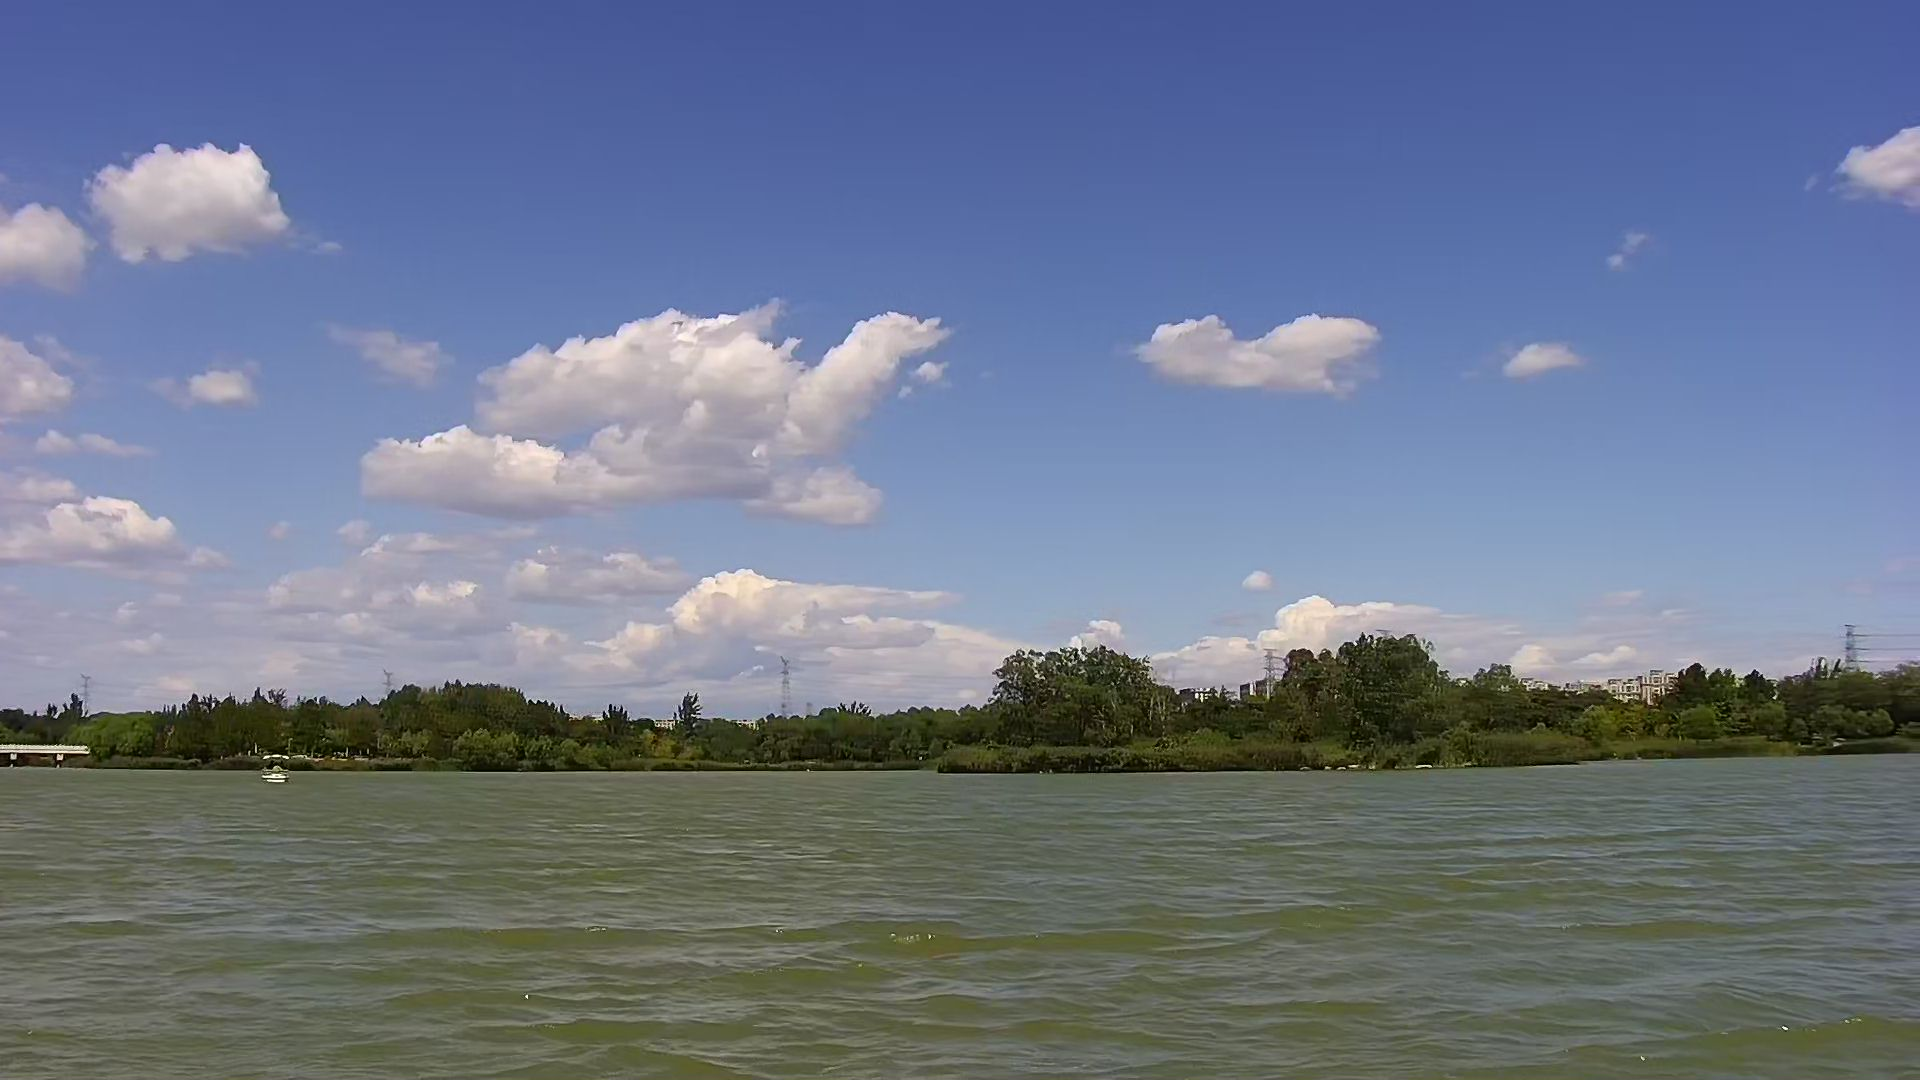boat: (255, 748, 295, 798)
bridge: (1, 731, 99, 778)
